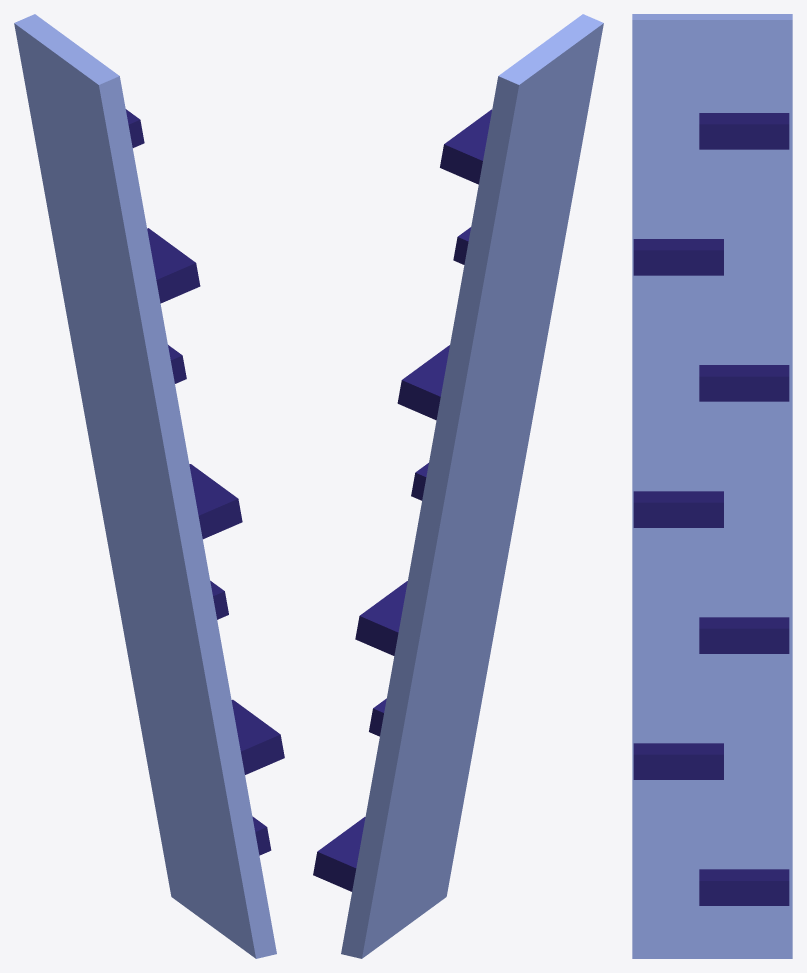
The model's file is Ladder.fbx.
The picture shows the model from 3 angles, left to right: view 1: azimuth 30°, elevation 25°; view 2: azimuth 150°, elevation 25°; view 3: azimuth 270°, elevation 25°; orthographic projection. The views are drawn at different scales.
Visible parts, largest first — view 1: Ladder_Body.001, Ladder_Ladders.001; view 2: Ladder_Body.001, Ladder_Ladders.001; view 3: Ladder_Body.001, Ladder_Ladders.001.
Boxes of the visible parts, x1,y1,x2,y2 form: Ladder_Body.001: [14, 14, 276, 958]; Ladder_Ladders.001: [125, 109, 284, 855]; Ladder_Body.001: [341, 14, 603, 958]; Ladder_Ladders.001: [313, 109, 491, 891]; Ladder_Body.001: [632, 14, 792, 958]; Ladder_Ladders.001: [633, 113, 789, 905].
Size of the model in its own units: 167 by 701 by 118.
